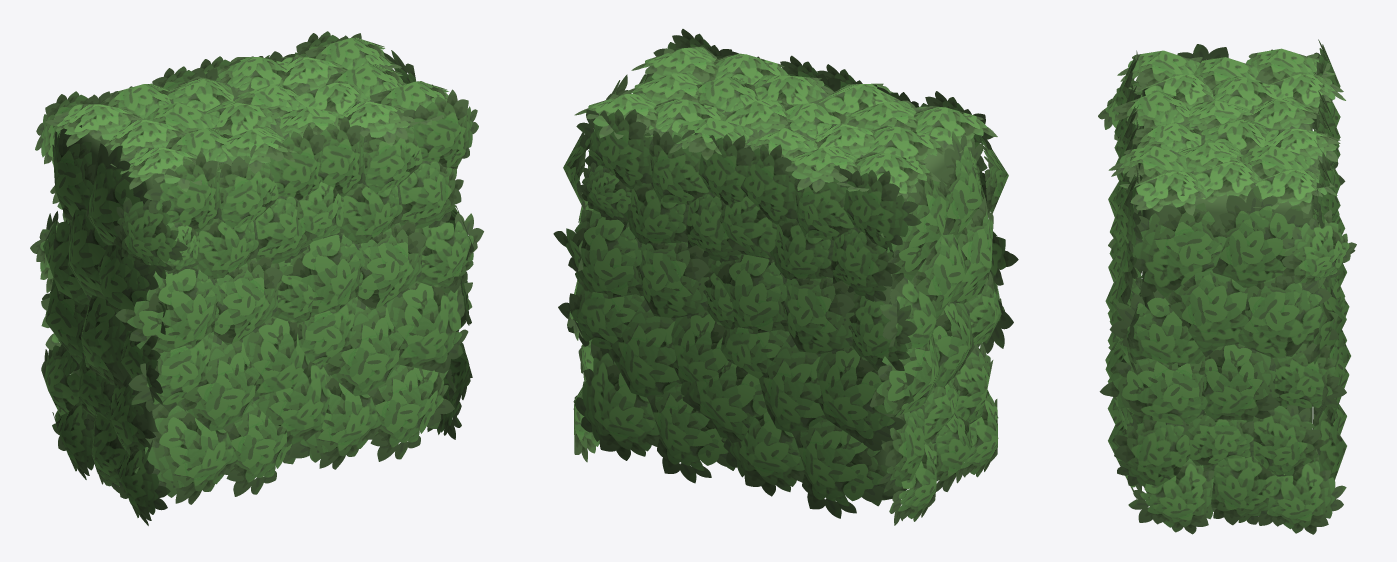
The model's file is hedge.glb.
3 views of the same model, side by side, from view 1: azimuth 30°, elevation 25°; view 2: azimuth 150°, elevation 25°; view 3: azimuth 270°, elevation 25° (orthographic). The views are drawn at different scales.
Visible parts, largest first — view 1: Bush_2x2; view 2: Bush_2x2; view 3: Bush_2x2.
Part boxes in pixels (left/top/right/bottom): Bush_2x2: left=30, top=31, right=483, bottom=525; Bush_2x2: left=553, top=29, right=1018, bottom=525; Bush_2x2: left=1098, top=39, right=1356, bottom=534.
Bounding box in the file's own units: 1.8 × 1.63 × 1.19.
Materials: 1 (1 with a texture image).
